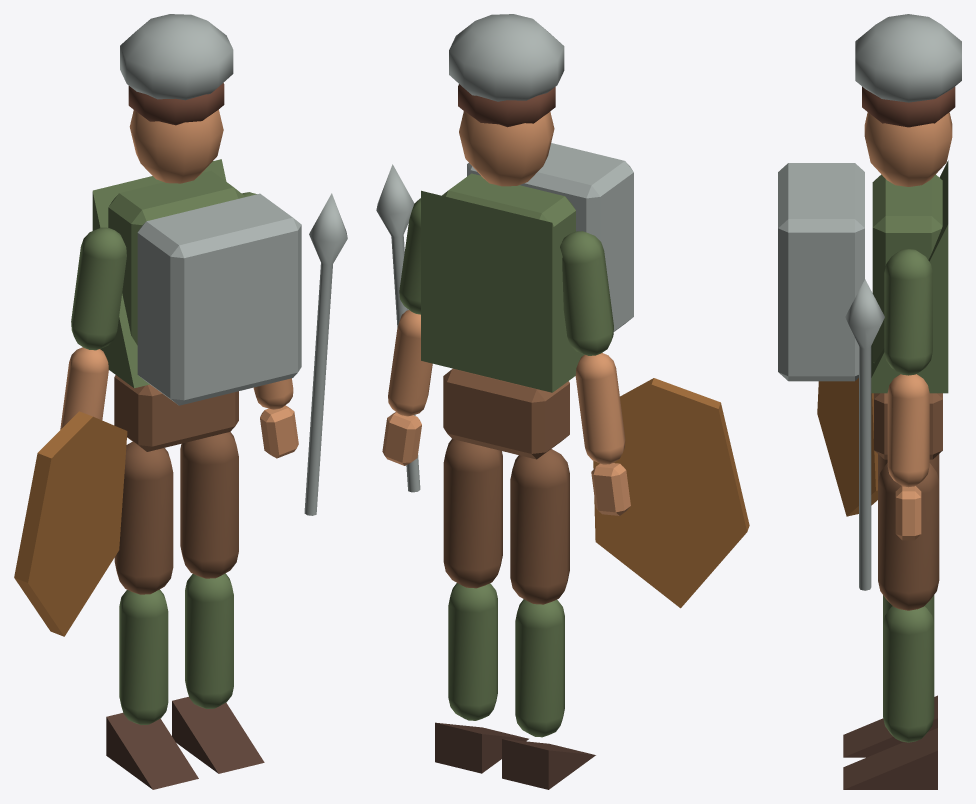
File: adventurer.rustic.glb
The picture shows the model from 3 angles, left to right: view 1: azimuth 30°, elevation 25°; view 2: azimuth 150°, elevation 25°; view 3: azimuth 270°, elevation 25°; orthographic projection.
Parts seen in each view (by area): view 1: accessory.body, accessory.off-hand, thigh.right, accessory.head, thigh.left, shin.left, shin.right, pelvis, torso, upper-arm.left, accessory.main-hand, head (+7 smaller); view 2: tunic, accessory.off-hand, accessory.body, pelvis, thigh.left, thigh.right, accessory.head, shin.right, shin.left, upper-arm.left, head, forearm.left (+9 smaller); view 3: accessory.body, accessory.head, shin.right, thigh.right, torso, upper-arm.right, head, accessory.main-hand, accessory.off-hand, forearm.right, tunic, foot.right (+4 smaller).
Boxes of the visible parts, x1,y1,x2,y2 form: accessory.body: (137, 193, 301, 405); accessory.off-hand: (14, 411, 127, 636); thigh.right: (180, 432, 238, 578); accessory.head: (120, 14, 233, 100); thigh.left: (114, 441, 173, 594); shin.left: (119, 589, 168, 725); shin.right: (185, 573, 233, 708); pelvis: (114, 375, 238, 451); torso: (108, 171, 244, 345); upper-arm.left: (71, 227, 126, 350); accessory.main-hand: (304, 193, 347, 515); head: (129, 109, 223, 183); tunic: (421, 190, 584, 392); accessory.off-hand: (593, 378, 749, 608); accessory.body: (467, 143, 633, 331); pelvis: (443, 368, 569, 459); thigh.left: (510, 449, 569, 604); thigh.right: (443, 439, 502, 588); accessory.head: (449, 14, 564, 101); shin.right: (448, 583, 497, 720); shin.left: (515, 599, 564, 737); upper-arm.left: (560, 231, 613, 355); head: (459, 111, 554, 186); forearm.left: (575, 353, 625, 464); accessory.body: (778, 163, 864, 381); accessory.head: (855, 14, 961, 102); shin.right: (883, 606, 934, 742); thigh.right: (878, 463, 939, 610); torso: (872, 174, 942, 362); upper-arm.right: (884, 249, 932, 375); head: (864, 112, 952, 186); accessory.main-hand: (845, 279, 884, 590); accessory.off-hand: (817, 378, 877, 516); forearm.right: (887, 374, 929, 487); tunic: (871, 160, 948, 393); foot.right: (843, 728, 937, 789).
Bounding box in the file's own units: 1.59 × 3.2 × 0.718.
